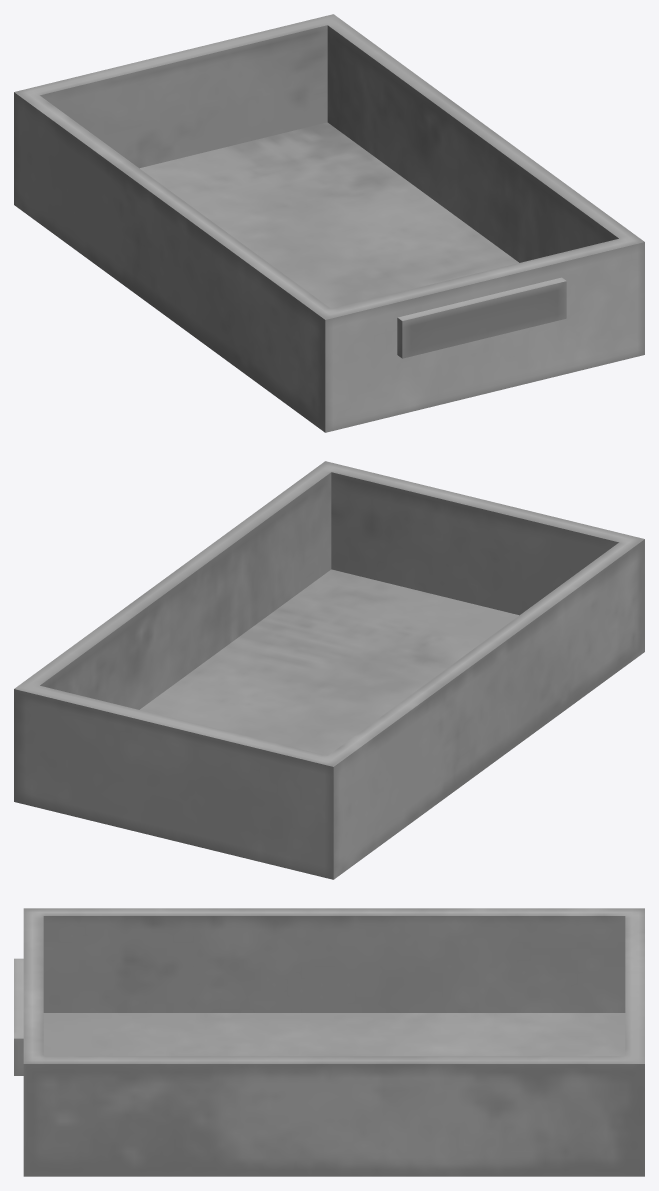
File: SM_Cabinet__10.fbx
3 renders of one model, top to bottom at view 1: azimuth 30°, elevation 25°; view 2: azimuth 150°, elevation 25°; view 3: azimuth 270°, elevation 25°, orthographic.
Visible parts, largest first — view 1: Kitchen; view 2: Kitchen; view 3: Kitchen.
Part boxes in pixels (left/top/right/bottom): Kitchen: left=14, top=14, right=644, bottom=432; Kitchen: left=14, top=461, right=644, bottom=879; Kitchen: left=14, top=908, right=644, bottom=1176.
Size of the model in its own units: 1.05 by 0.3547 by 1.8.
1 material, 1 textured.
